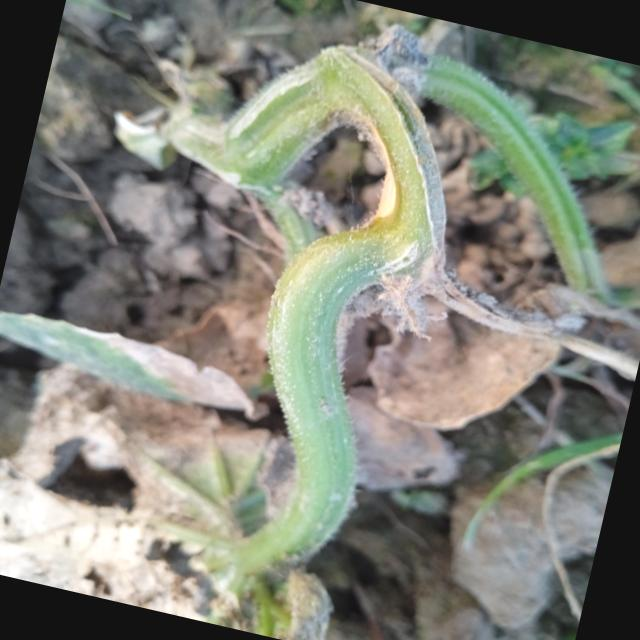cucumber_bacterial: (0, 411, 298, 635), (316, 0, 594, 216), (346, 243, 578, 460), (0, 267, 276, 437), (447, 458, 610, 640), (80, 54, 238, 234)
